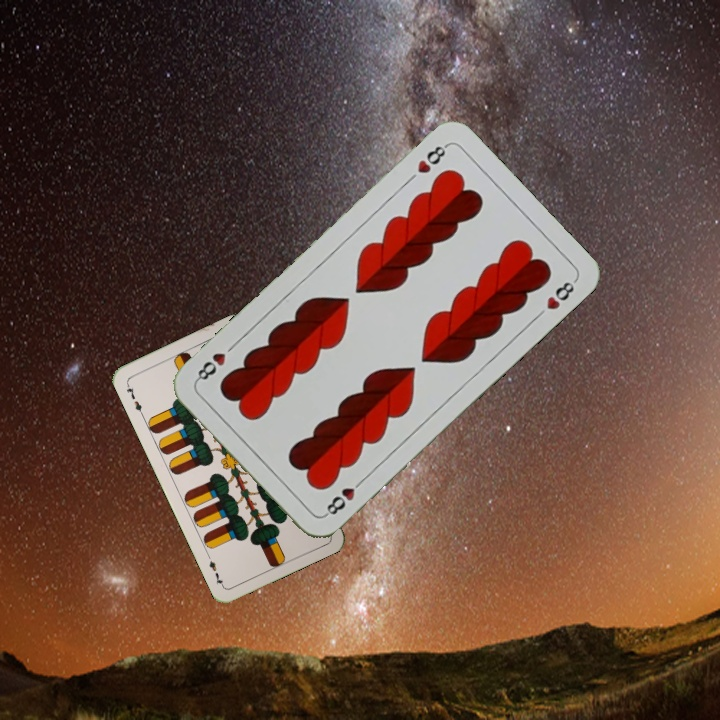E7: (122, 379, 145, 418)
H8: (320, 474, 367, 519), (413, 140, 451, 176)
